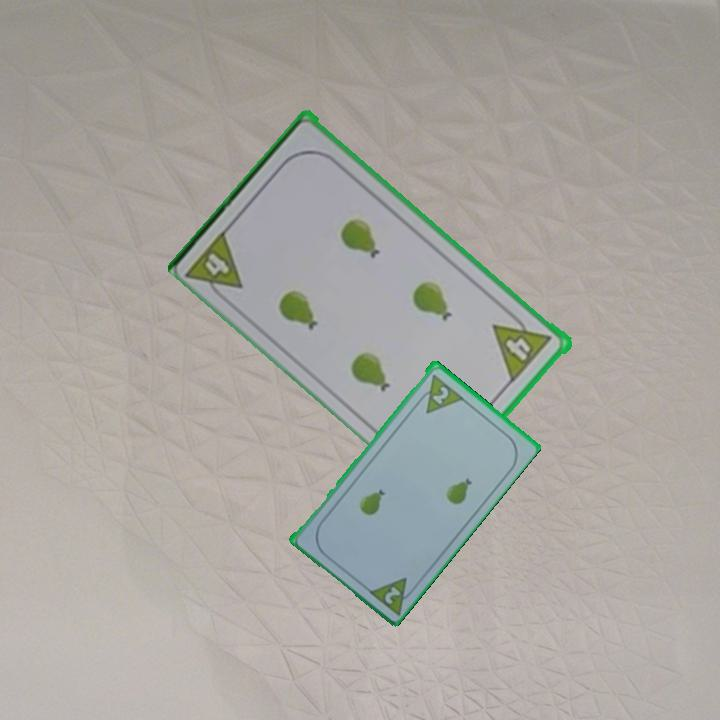2p: (412, 370, 465, 416), (381, 582, 404, 607)
4p: (183, 225, 247, 307), (490, 306, 556, 384)
